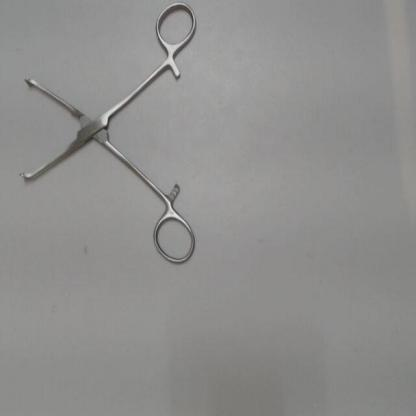Allis Tissue Forceps: (16, 2, 200, 270)
